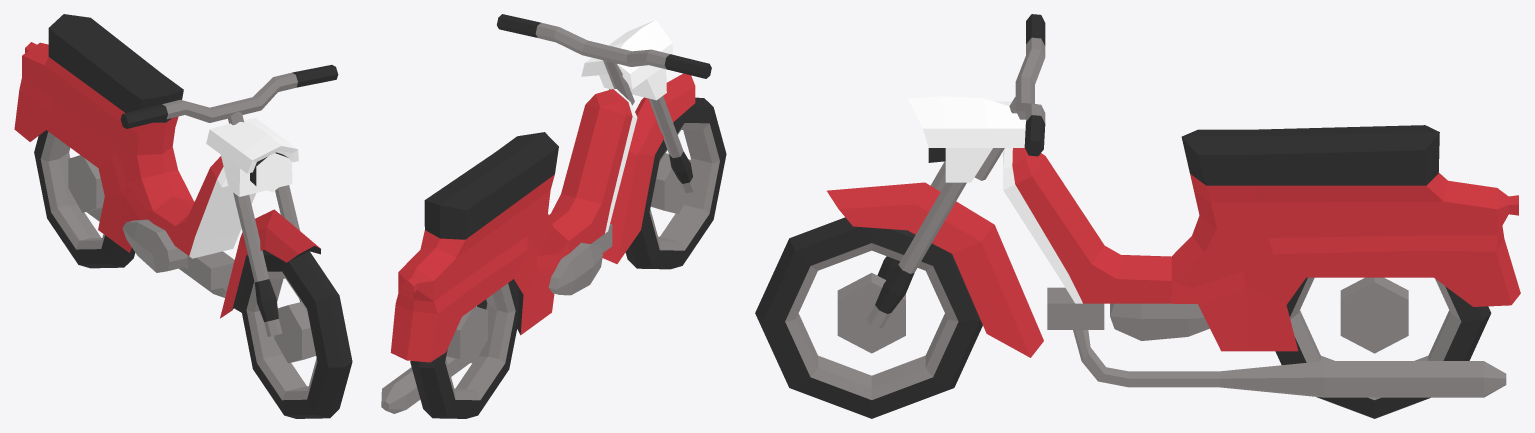
File: motorbike-old.glb
3 renders of one model, left to right at view 1: azimuth 30°, elevation 25°; view 2: azimuth 150°, elevation 25°; view 3: azimuth 270°, elevation 25°, orthographic. The views are drawn at different scales.
Visible parts, largest first — view 1: motorbike-old; view 2: motorbike-old; view 3: motorbike-old.
Boxes of the visible parts, bbox=[...] form: motorbike-old: bbox=[14, 14, 352, 418]; motorbike-old: bbox=[381, 14, 726, 418]; motorbike-old: bbox=[755, 14, 1520, 418].
Size of the model in its own units: 0.8349 by 1.07 by 2.17.
Materials: 1 (1 with a texture image).
